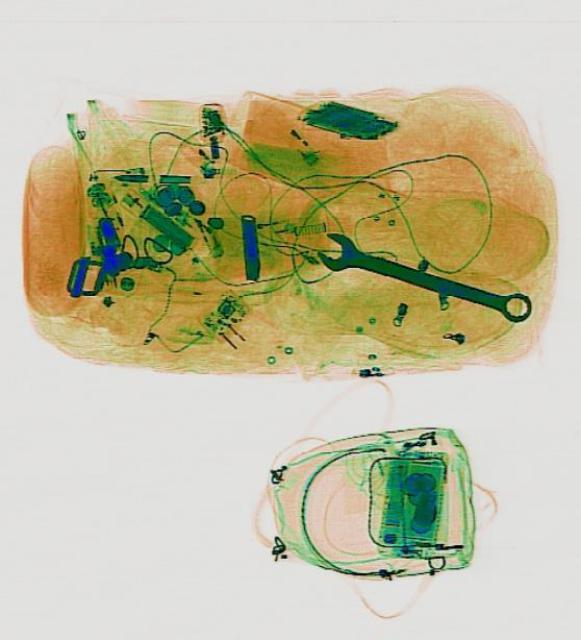Wrench: (309, 225, 534, 331)
